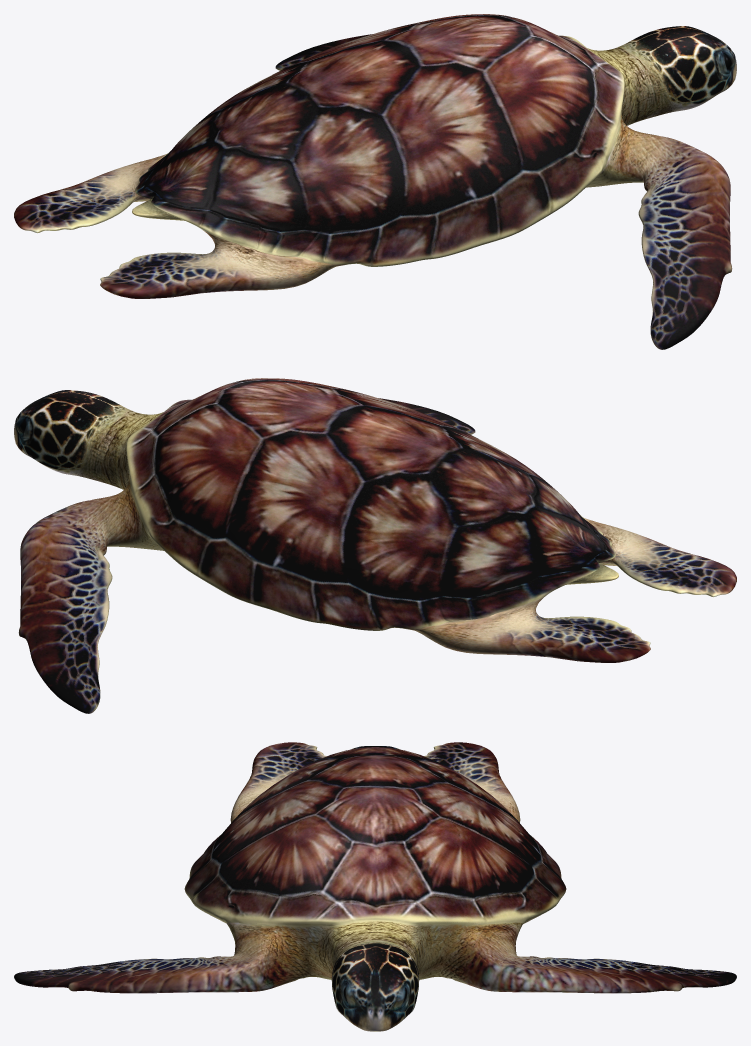
Rendered from 10042_Sea_Turtle_V2_iterations-2.obj.
3 views of the same model, one above another, from view 1: azimuth 30°, elevation 25°; view 2: azimuth 150°, elevation 25°; view 3: azimuth 270°, elevation 25° (orthographic). The views are drawn at different scales.
Parts seen in each view (by area): view 1: 10042_Sea_Turtle_V2_iterations-2; view 2: 10042_Sea_Turtle_V2_iterations-2; view 3: 10042_Sea_Turtle_V2_iterations-2.
Boxes of the visible parts, x1,y1,x2,y2 form: 10042_Sea_Turtle_V2_iterations-2: (14,14,736,349); 10042_Sea_Turtle_V2_iterations-2: (14,378,736,713); 10042_Sea_Turtle_V2_iterations-2: (14,742,736,1031).
Bounding box in the file's own units: 102 × 25.77 × 102.
Materials: 1 (1 with a texture image).
